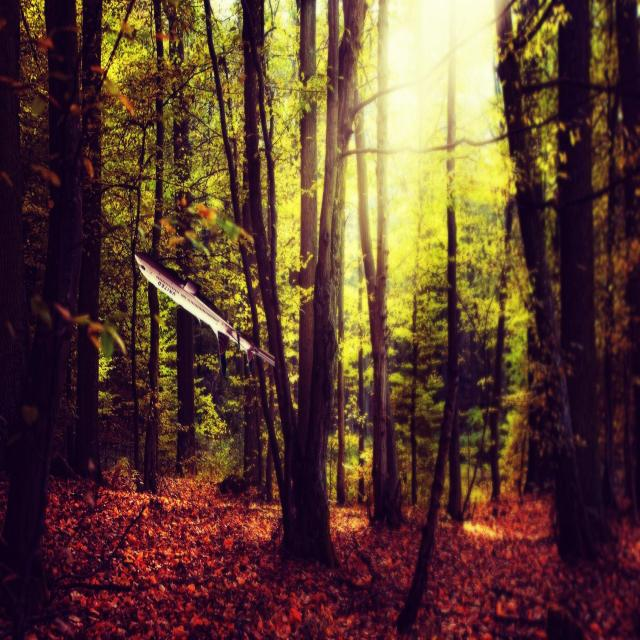airplane: (134, 248, 276, 374)
